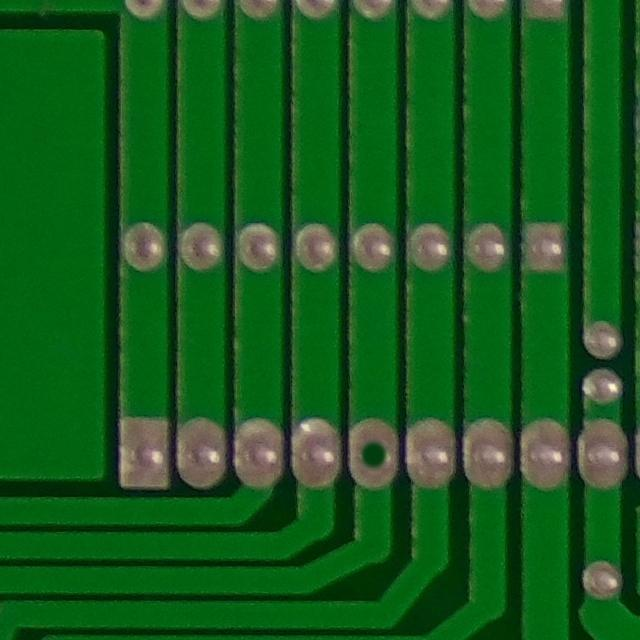missing_hole: (342, 417, 404, 488)
